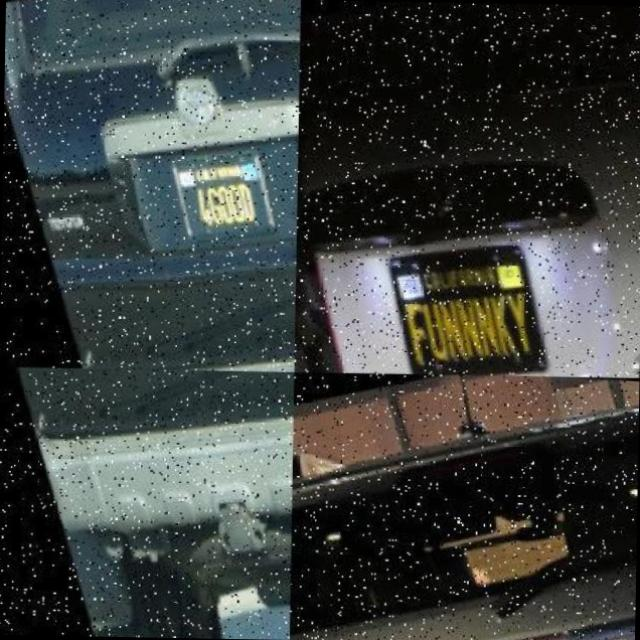LicensePlate: (376, 224, 552, 376), (160, 125, 286, 247), (111, 369, 228, 430)
